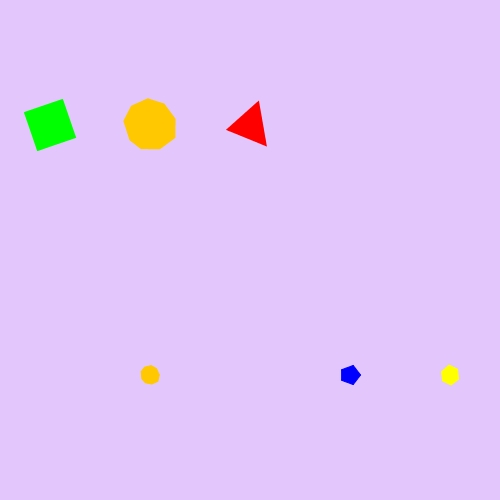hexagon: (435, 362, 465, 388)
nonagon: (120, 96, 181, 154), (136, 361, 165, 389)
pentagon: (336, 361, 364, 389)
quadrilateral: (18, 93, 82, 157)
triangle: (227, 101, 274, 150)
